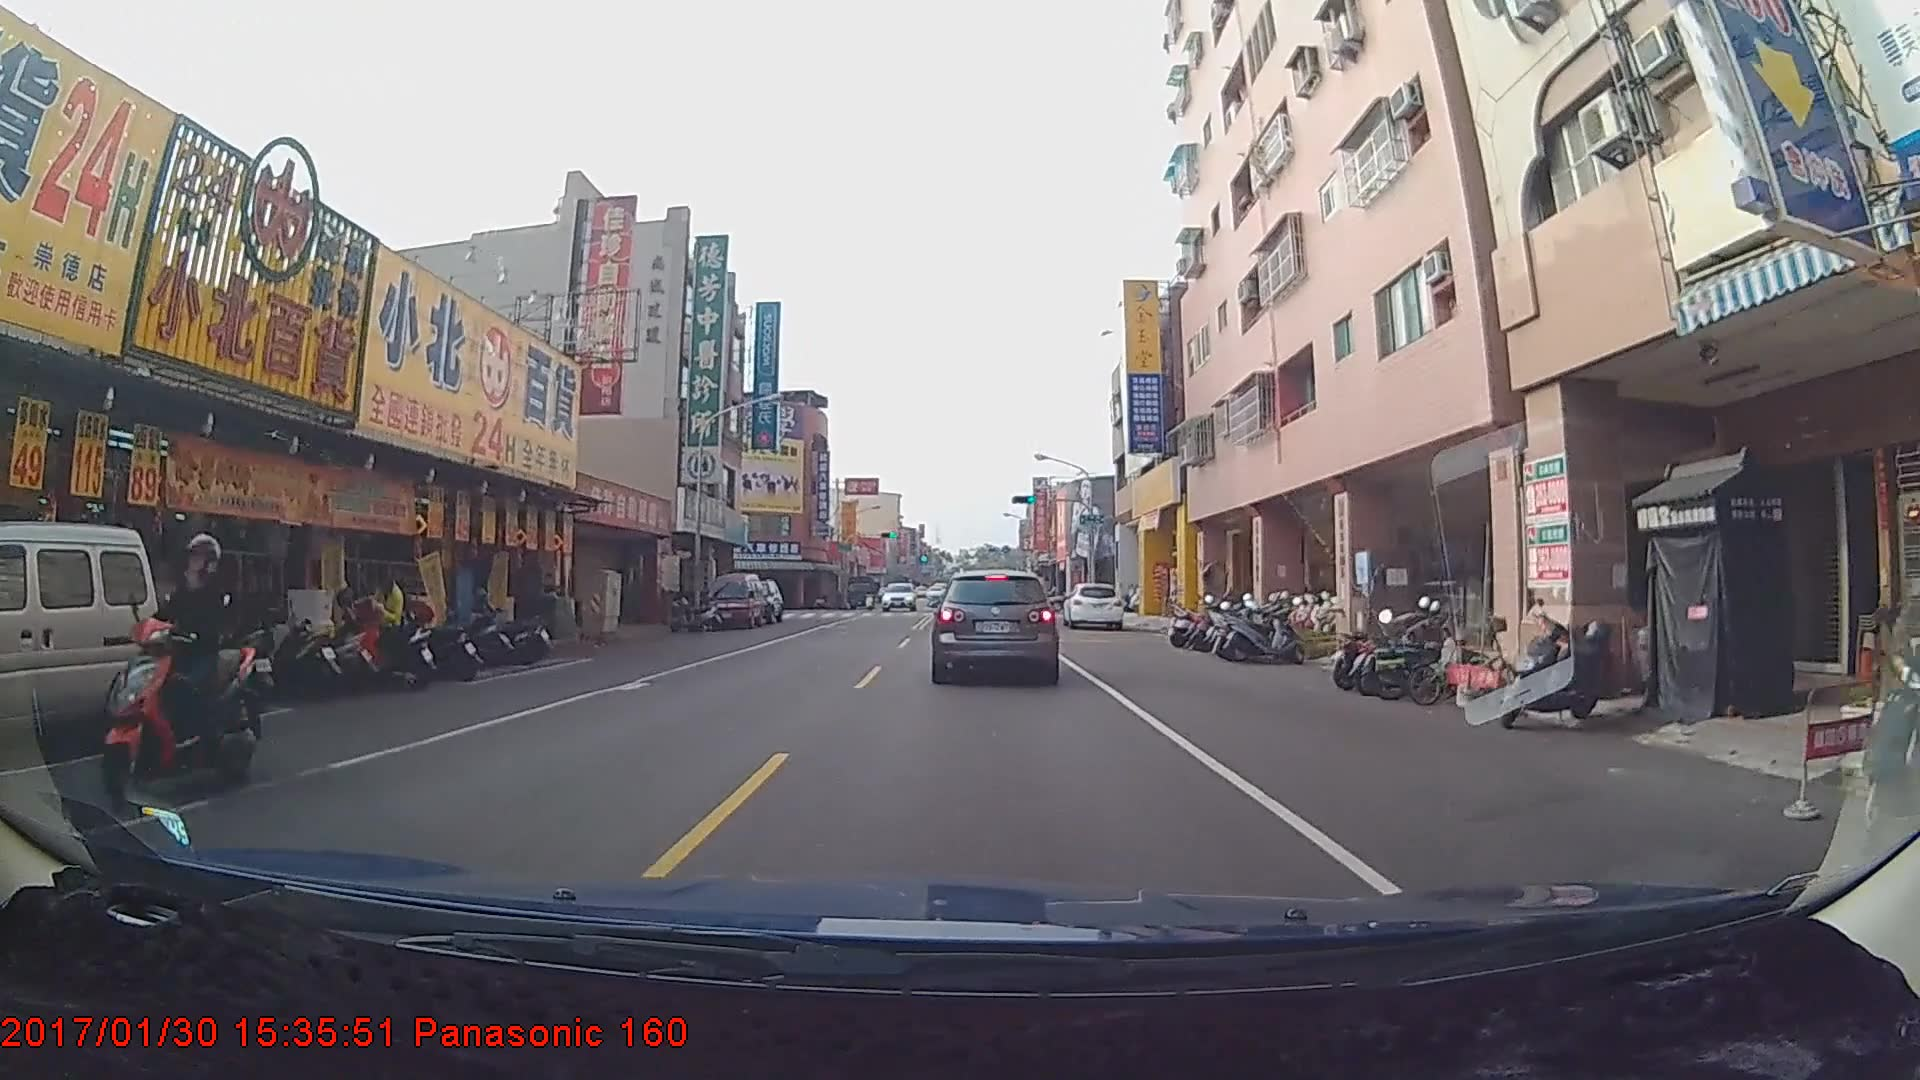pedestrian: (363, 568, 407, 673)
rider: (72, 531, 259, 814)
vehicle: (0, 519, 160, 759), (933, 565, 1058, 682), (705, 570, 766, 629), (1063, 582, 1124, 631), (878, 576, 919, 613)
